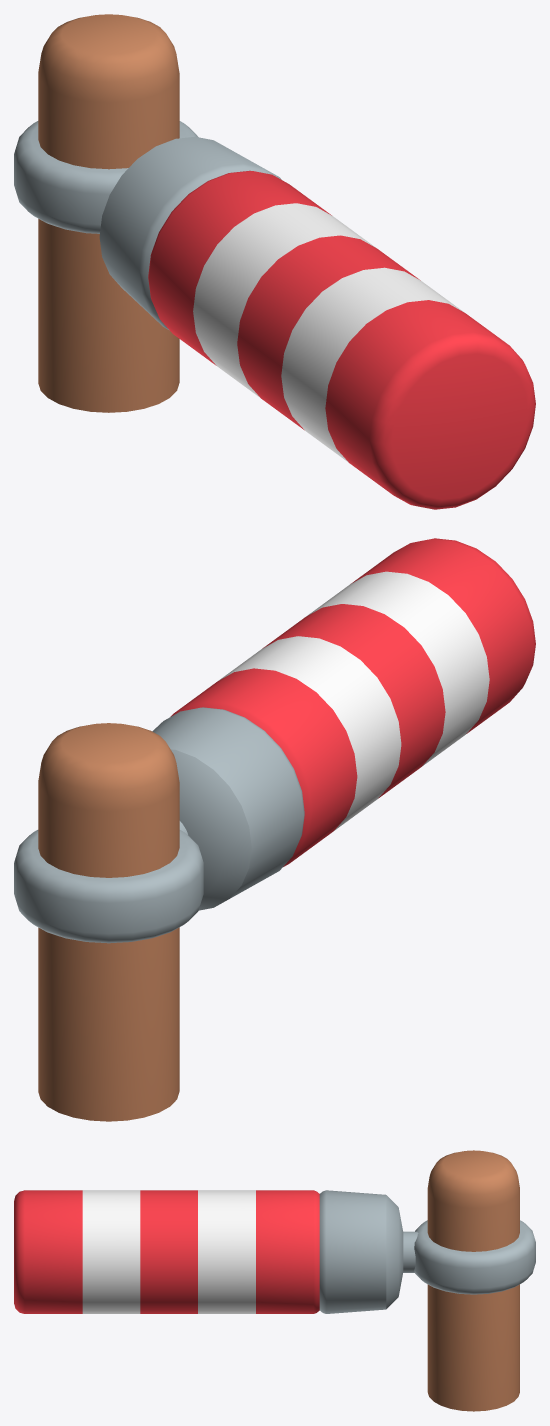
Rendered from swiper_teamRed.glb.
3 renders of one model, top to bottom at view 1: azimuth 30°, elevation 25°; view 2: azimuth 150°, elevation 25°; view 3: azimuth 270°, elevation 25°, orthographic. The views are drawn at different scales.
Visible parts, largest first — view 1: swiper_teamRed; view 2: swiper_teamRed; view 3: swiper_teamRed.
Part boxes in pixels (x1,y1,x2,y2): swiper_teamRed: (14,14,535,509); swiper_teamRed: (14,538,535,1121); swiper_teamRed: (14,1150,535,1411).
Bounding box in the file's own units: 0.2821 × 0.5719 × 1.18.
